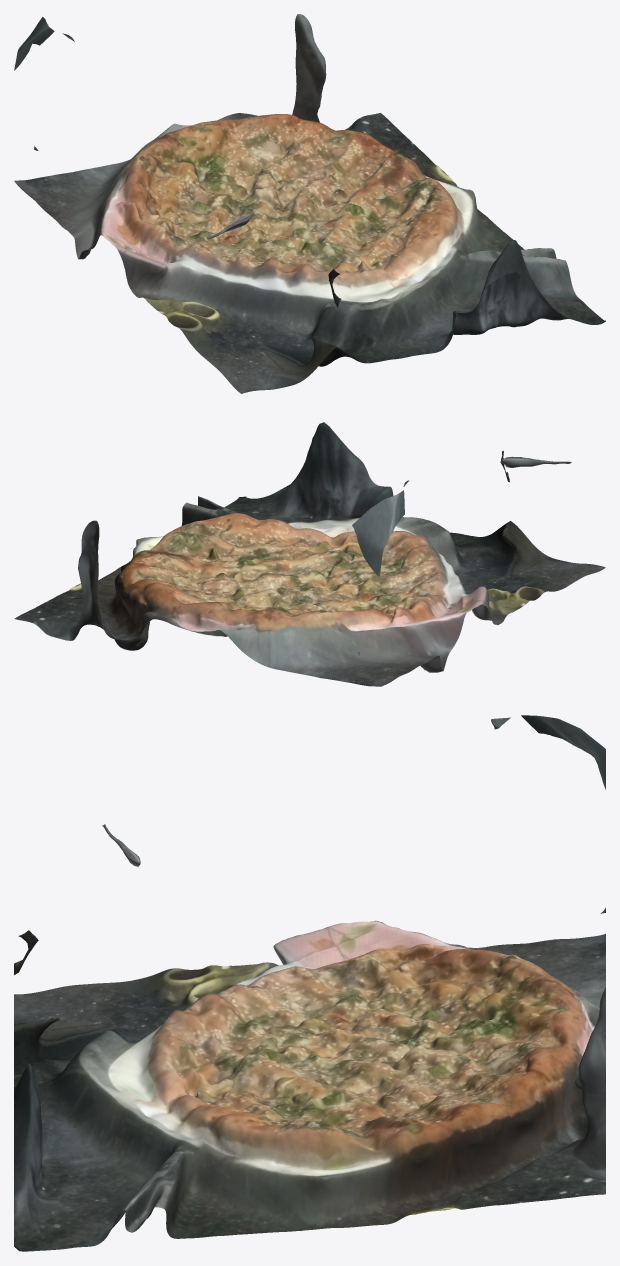
The model's file is subject3.glb.
3 renders of one model, top to bottom at view 1: azimuth 30°, elevation 25°; view 2: azimuth 150°, elevation 25°; view 3: azimuth 270°, elevation 25°, orthographic. The views are drawn at different scales.
Visible parts, largest first — view 1: Node1; view 2: Node1; view 3: Node1.
Boxes of the visible parts, left/top/right/bottom form: Node1: left=14, top=14, right=605, bottom=393; Node1: left=14, top=422, right=605, bottom=686; Node1: left=14, top=715, right=605, bottom=1251.
Size of the model in its own units: 0.7181 by 0.4435 by 0.7714.
1 material, 1 textured.
